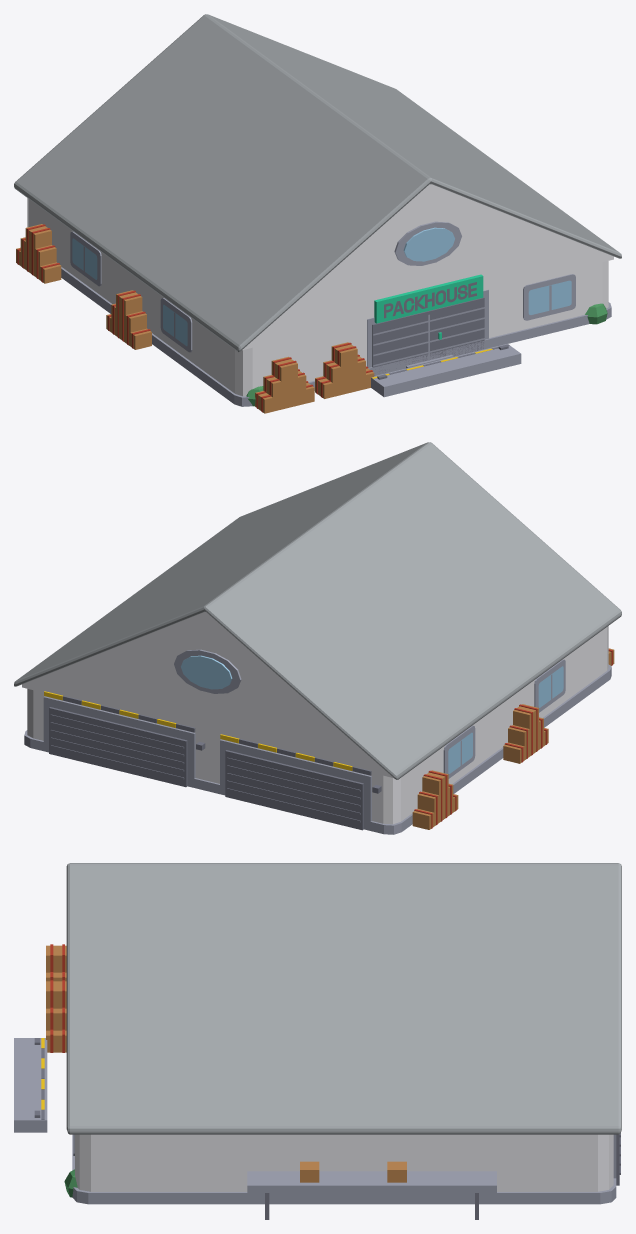
File: packhouse-2x2-t4-tone-a.glb
3 views of the same model, one above another, from view 1: azimuth 30°, elevation 25°; view 2: azimuth 150°, elevation 25°; view 3: azimuth 270°, elevation 25° (orthographic). The views are drawn at different scales.
Visible parts, largest first — view 1: packhouse-2x2-t4-tone-a; view 2: packhouse-2x2-t4-tone-a; view 3: packhouse-2x2-t4-tone-a.
Boxes of the visible parts, x1,y1,x2,y2 form: packhouse-2x2-t4-tone-a: (14, 14, 621, 413); packhouse-2x2-t4-tone-a: (14, 442, 621, 834); packhouse-2x2-t4-tone-a: (14, 863, 621, 1219).
Size of the model in its own units: 2.16 by 0.9066 by 2.19.
Materials: 1 (1 with a texture image).
